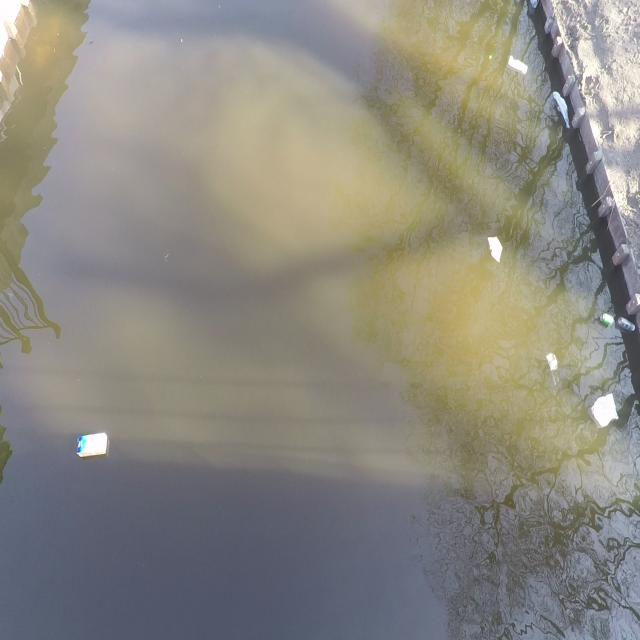Non plastique: (70, 422, 114, 465), (596, 309, 615, 332), (616, 316, 637, 333)
Sac plastique: (583, 391, 620, 434), (551, 84, 573, 133), (545, 343, 561, 396)
